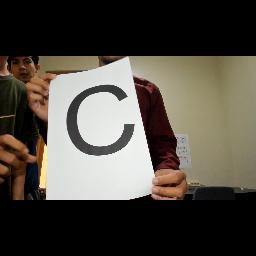c: (60, 80, 146, 160)
